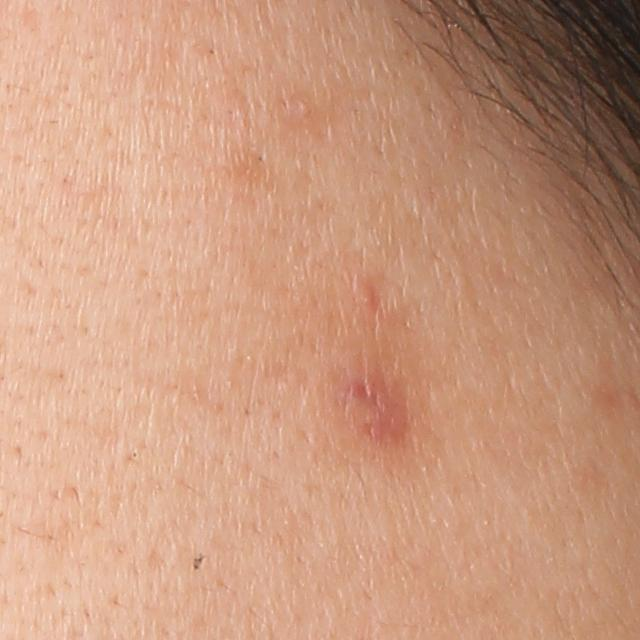papule: (350, 276, 382, 313)
